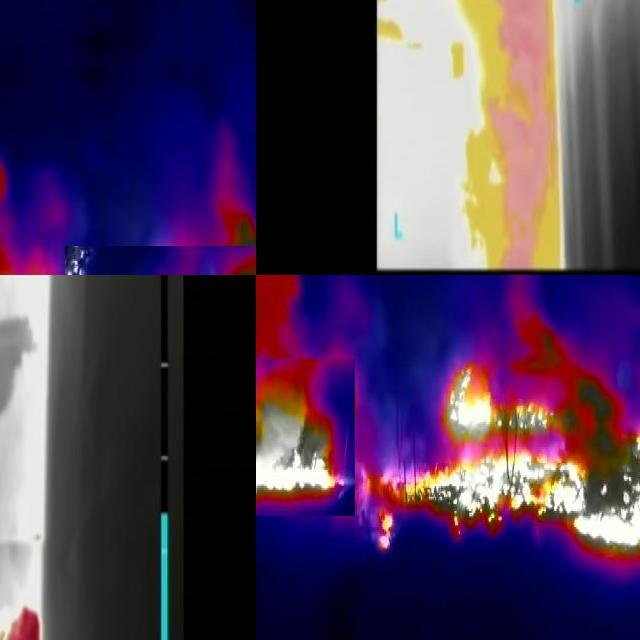fire: (376, 353, 640, 569), (475, 1, 563, 269), (257, 359, 355, 516)
